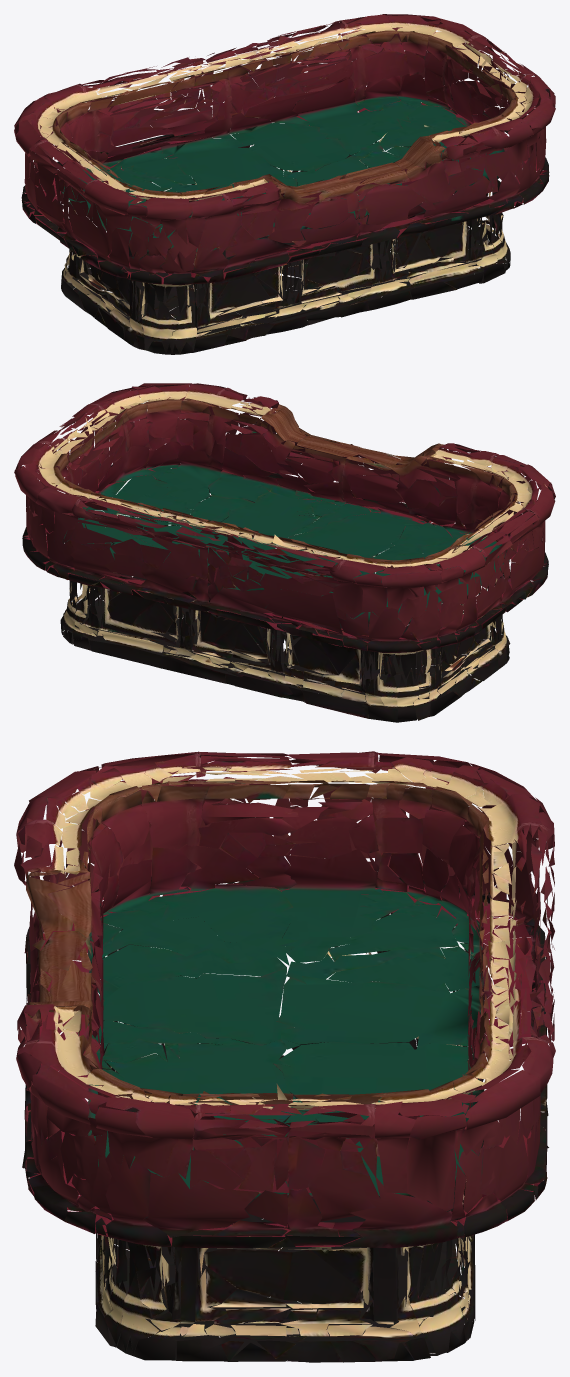
File: diceTable.glb
3 views of the same model, one above another, from view 1: azimuth 30°, elevation 25°; view 2: azimuth 150°, elevation 25°; view 3: azimuth 270°, elevation 25° (orthographic). The views are drawn at different scales.
Visible parts, largest first — view 1: Mesh_0; view 2: Mesh_0; view 3: Mesh_0.
Part boxes in pixels (x1,y1,x2,y2): Mesh_0: (14, 14, 555, 354); Mesh_0: (14, 383, 555, 722); Mesh_0: (14, 751, 555, 1362).
Size of the model in its own units: 2.71 by 1 by 1.66.
1 material, 1 textured.
